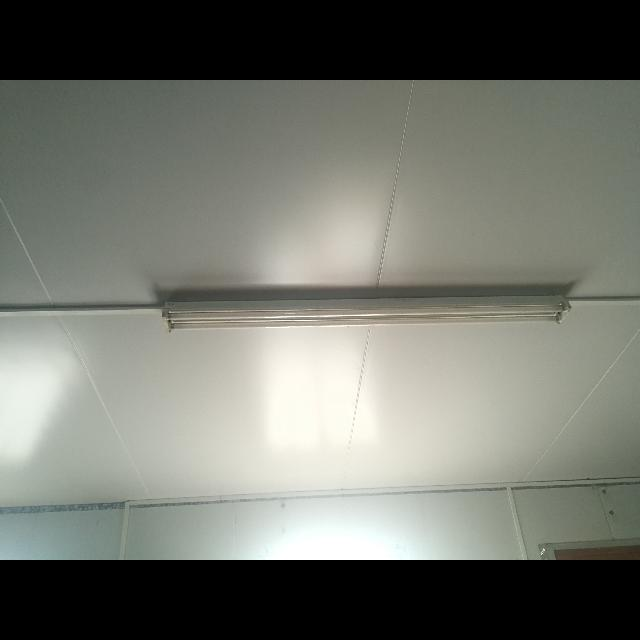Straight-Tube-Fluorescent-Lamp: (156, 284, 576, 342)
